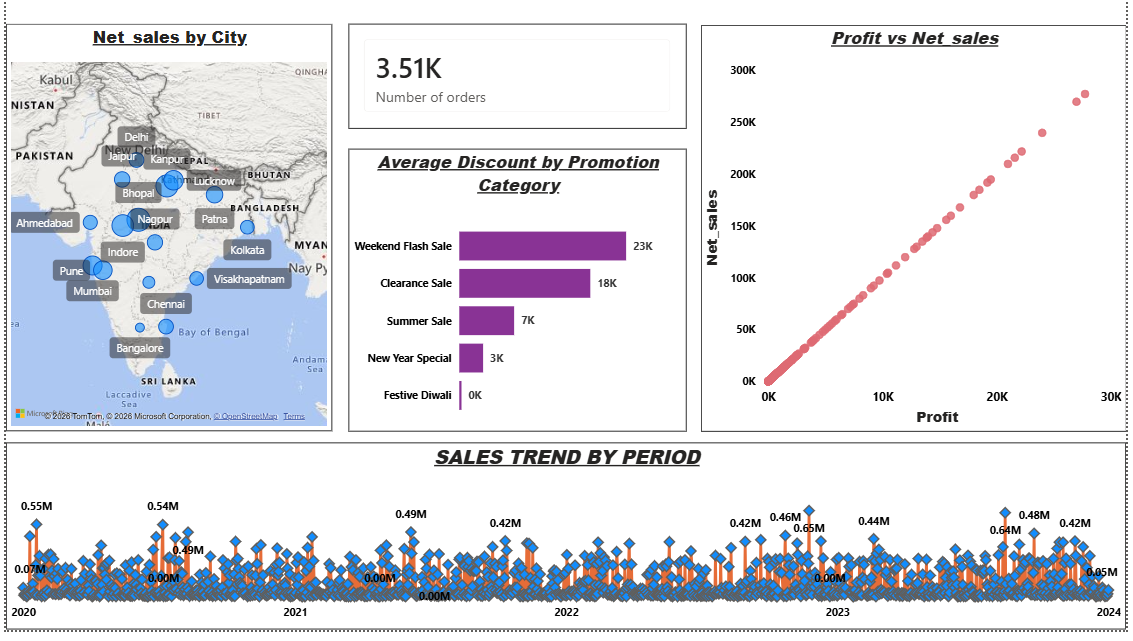

Layout of this report page (visuals, bound fields, positions):
{"tool":"powerbi","page":{"name":"overview","canvas":[1280,720],"ordinal":1},"visuals":[{"type":"lineChart","title":"SALES TREND BY PERIOD","fields":{"Y":["Sum(Fact table.Net_sales)"],"Category":["Fact table.Date (dd/mm/yyyy).Variation.Date Hierarchy.Year"]},"box":[0,505,1280.3,214],"z":0},{"type":"scatterChart","title":"Profit vs Net_sales","fields":{"X":["Fact table.Profit"],"Y":["Fact table.Net_sales"]},"box":[793.6,28.1,486.7,464.7],"z":1000},{"type":"barChart","title":"Average Discount by Promotion Category","fields":{"Y":["Avg(Fact table.Discount)"],"Category":["Dim Promotion.Promotion Name"]},"box":[391.3,170,386.4,322.8],"z":2000},{"type":"map","fields":{"Category":["Dim Customers.City"],"Size":["Sum(Fact table.Net_sales)"]},"box":[0,26.9,373,465.9],"z":3000},{"type":"cardVisual","fields":{"Data":["Count(Fact table.Order ID)"]},"box":[391.3,26.9,386.4,119.8],"z":4000}]}

Visuals, with their boxes in screenshot pixels (x1, y1, x2, y2), scaled from the page's 1280x720 canvas onto the 1133x641 screenshot:
"SALES TREND BY PERIOD" lineChart: 0,450,1132,640
"Profit vs Net_sales" scatterChart: 702,25,1132,439
"Average Discount by Promotion Category" barChart: 346,151,688,439
map - Dim Customers.City x Sum(Fact table.Net_sales): 0,24,330,439
cardVisual - Count(Fact table.Order ID): 346,24,688,131
